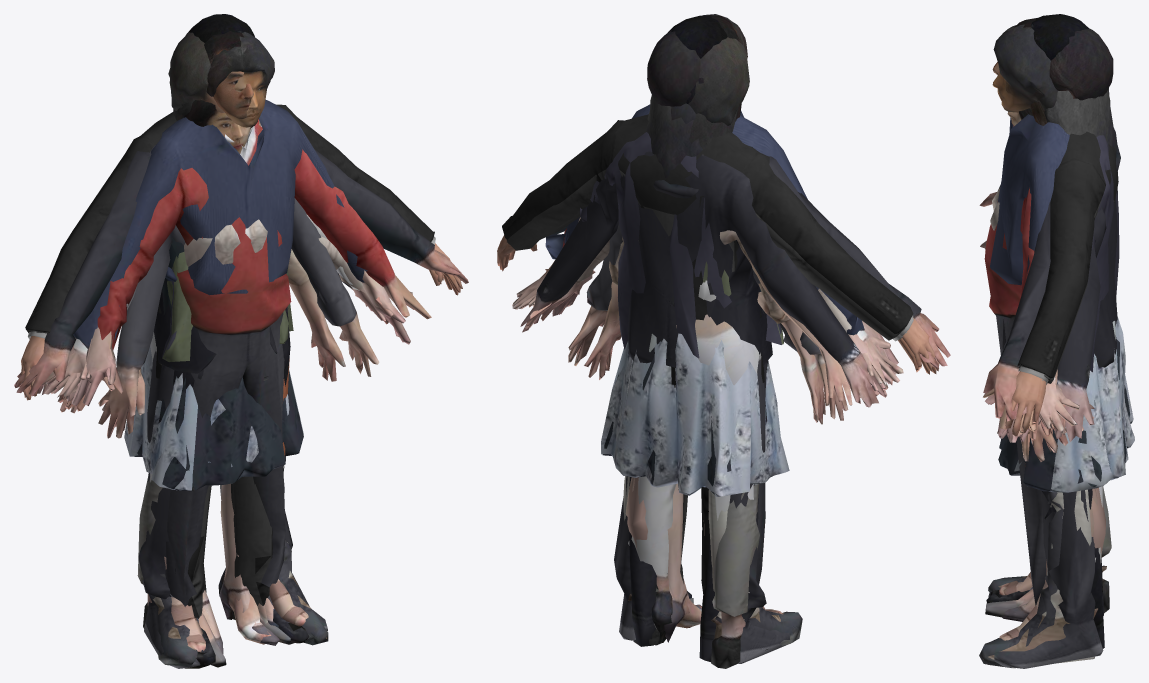
The model's file is citizens.glb.
The picture shows the model from 3 angles, left to right: view 1: azimuth 30°, elevation 25°; view 2: azimuth 150°, elevation 25°; view 3: azimuth 270°, elevation 25°; orthographic projection.
Visible parts, largest first — view 1: warga-06, warga-11, warga-03, warga-04, warga-05, warga-02, warga-10, warga-13, warga-07, warga-01, warga-14, warga-08 (+2 smaller); view 2: warga-08, warga-07, warga-04, warga-03, warga-14, warga-12, warga-05, warga-11, warga-01, warga-10, warga-13, warga-09 (+2 smaller); view 3: warga-04, warga-03, warga-06, warga-11, warga-07, warga-08, warga-10, warga-12, warga-05, warga-02, warga-09, warga-13 (+2 smaller).
Part boxes in pixels (bbox=[...]): warga-06: bbox=[63, 32, 431, 664]; warga-11: bbox=[57, 31, 406, 652]; warga-03: bbox=[14, 32, 468, 668]; warga-04: bbox=[21, 14, 462, 668]; warga-05: bbox=[98, 198, 379, 667]; warga-02: bbox=[46, 214, 359, 627]; warga-10: bbox=[67, 23, 410, 665]; warga-13: bbox=[42, 100, 385, 653]; warga-07: bbox=[42, 99, 412, 623]; warga-01: bbox=[23, 269, 460, 664]; warga-14: bbox=[102, 249, 345, 644]; warga-08: bbox=[37, 136, 372, 643]; warga-08: bbox=[520, 77, 884, 668]; warga-07: bbox=[512, 108, 903, 516]; warga-04: bbox=[497, 15, 939, 593]; warga-03: bbox=[552, 37, 950, 663]; warga-14: bbox=[584, 103, 825, 642]; warga-12: bbox=[552, 132, 896, 661]; warga-05: bbox=[568, 95, 848, 628]; warga-11: bbox=[540, 15, 888, 661]; warga-01: bbox=[499, 169, 936, 642]; warga-10: bbox=[552, 30, 898, 645]; warga-13: bbox=[542, 103, 891, 642]; warga-09: bbox=[524, 259, 860, 614]; warga-04: bbox=[990, 14, 1118, 597]; warga-03: bbox=[979, 142, 1120, 668]; warga-06: bbox=[983, 24, 1058, 640]; warga-11: bbox=[990, 18, 1104, 648]; warga-07: bbox=[1013, 316, 1134, 536]; warga-08: bbox=[1002, 128, 1117, 613]; warga-10: bbox=[979, 28, 1113, 667]; warga-12: bbox=[983, 135, 1119, 668]; warga-05: bbox=[985, 90, 1116, 617]; warga-02: bbox=[998, 339, 1131, 491]; warga-09: bbox=[999, 101, 1094, 640]; warga-13: bbox=[990, 108, 1052, 621].
Bounding box in the file's own units: 1.45 × 1.92 × 0.4415.
Materials: 28 (28 with a texture image).
